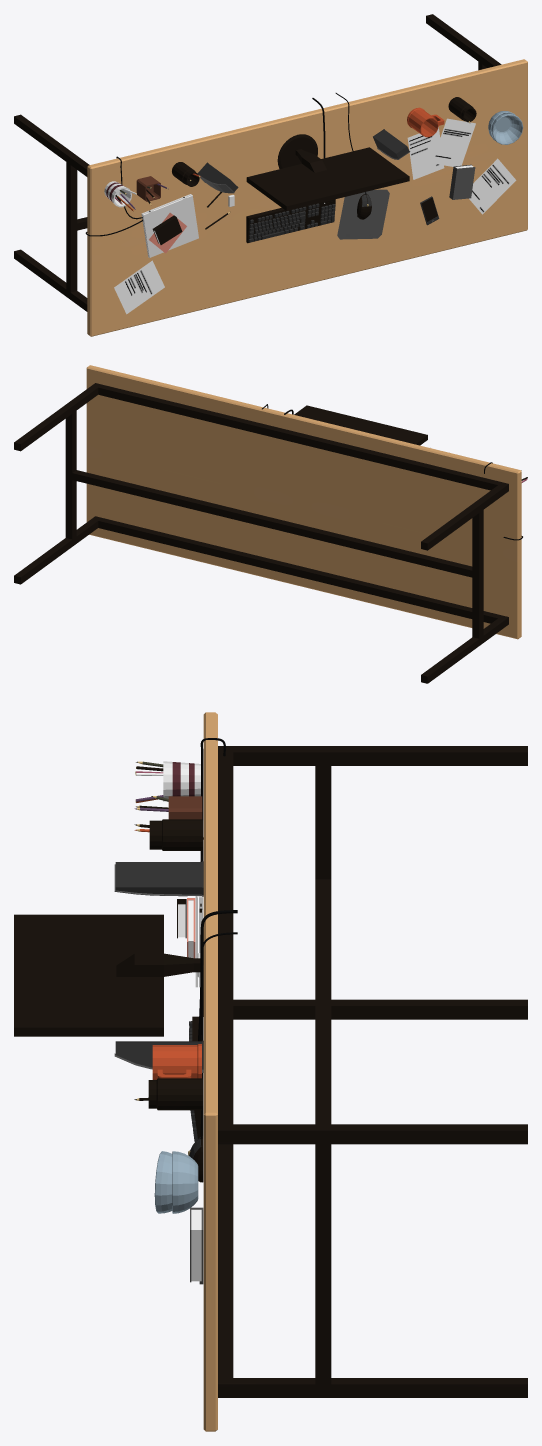
Rendered from Desk.obj.
The picture shows the model from 3 angles, top to bottom: view 1: azimuth 30°, elevation 25°; view 2: azimuth 150°, elevation 25°; view 3: azimuth 270°, elevation 25°; orthographic projection. The views are drawn at different scales.
Visible parts, largest first — view 1: Desk_Desk, PC_Monitor_PC_Monitor, Paper_Paper, PC_Keyboard_PC_Keyboard, Mousepad_Mousepad, Notebook_Notebook, Boxes_Boxes, Books_Books, PC_Speaker_PC_Speakers, Dish_Cup, Boxes_B_Tranaparency, Pen_Pen; view 2: Desk_Desk, PC_Monitor_PC_Monitor; view 3: Desk_Desk, PC_Monitor_PC_Monitor, PC_Speaker_PC_Speakers, Boxes_Boxes, Boxes_B_Tranaparency, Dish_Cup, Books_Books.
Part boxes in pixels (<box>): Desk_Desk: <box>14,14,527,336</box>; PC_Monitor_PC_Monitor: <box>246,134,409,210</box>; Paper_Paper: <box>114,118,516,314</box>; PC_Keyboard_PC_Keyboard: <box>246,199,335,243</box>; Mousepad_Mousepad: <box>337,189,389,239</box>; Notebook_Notebook: <box>141,194,198,257</box>; Boxes_Boxes: <box>104,107,444,207</box>; Books_Books: <box>149,164,475,253</box>; PC_Speaker_PC_Speakers: <box>197,129,410,193</box>; Dish_Cup: <box>488,111,523,144</box>; Boxes_B_Tranaparency: <box>172,97,476,186</box>; Pen_Pen: <box>115,117,469,229</box>; Desk_Desk: <box>14,365,521,683</box>; PC_Monitor_PC_Monitor: <box>294,405,427,445</box>; Desk_Desk: <box>203,712,527,1431</box>; PC_Monitor_PC_Monitor: <box>14,914,203,1036</box>; PC_Speaker_PC_Speakers: <box>114,861,203,1072</box>; Boxes_Boxes: <box>152,761,202,1079</box>; Boxes_B_Tranaparency: <box>148,819,203,1110</box>; Dish_Cup: <box>154,1151,198,1213</box>; Books_Books: <box>177,898,203,1282</box>.
Size of the model in its own units: 6.02 by 2.31 by 3.24.
19 materials, 17 textured.
